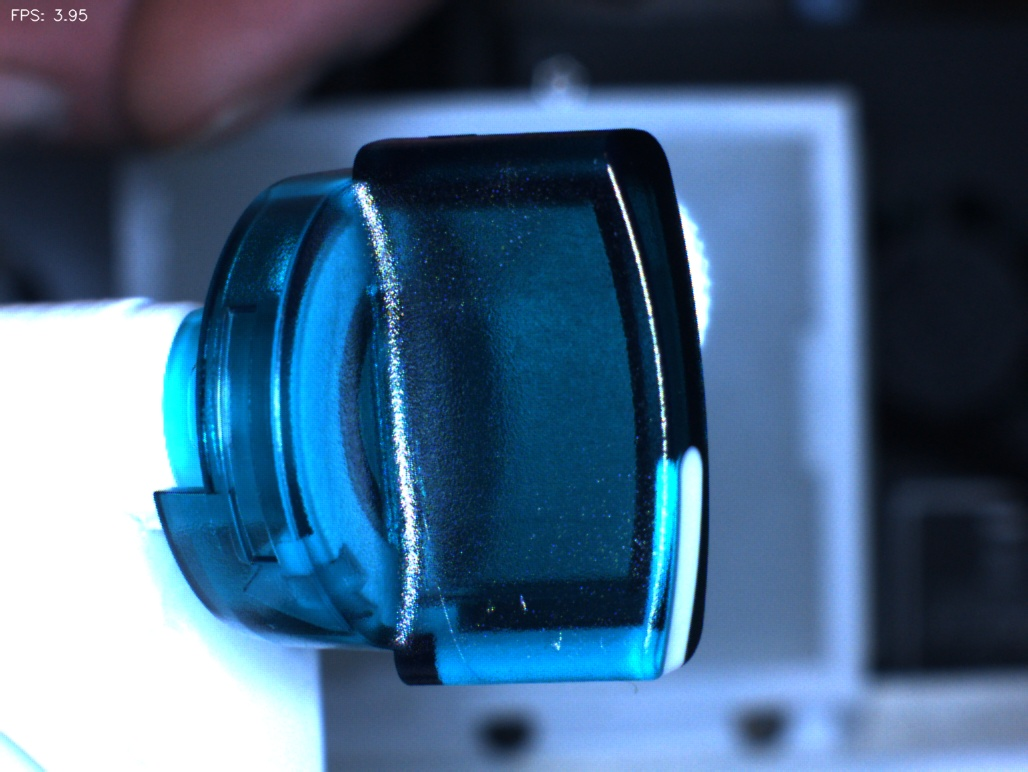Givrage: (497, 564, 593, 665)
